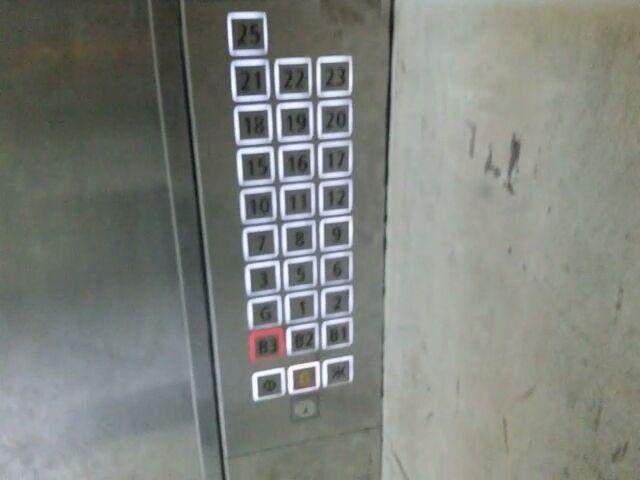1: (280, 286, 318, 325)
10: (236, 183, 277, 224)
11: (276, 179, 315, 220)
12: (315, 176, 353, 216)
15: (233, 143, 275, 186)
16: (274, 140, 314, 182)
17: (314, 137, 353, 179)
18: (230, 100, 273, 146)
19: (273, 98, 314, 142)
2: (317, 281, 354, 320)
20: (313, 96, 353, 139)
21: (227, 55, 270, 102)
22: (270, 53, 312, 100)
23: (312, 51, 354, 98)
25: (222, 6, 270, 57)
3: (241, 257, 281, 297)
5: (279, 252, 317, 291)
6: (317, 247, 353, 287)
7: (239, 221, 279, 262)
8: (278, 217, 316, 257)
9: (316, 212, 353, 252)
B1: (319, 312, 354, 350)
B2: (282, 318, 320, 356)
B3: (246, 323, 284, 361)
G: (243, 290, 282, 330)
alarm: (284, 358, 320, 395)
close: (319, 352, 353, 388)
open: (248, 363, 286, 402)
